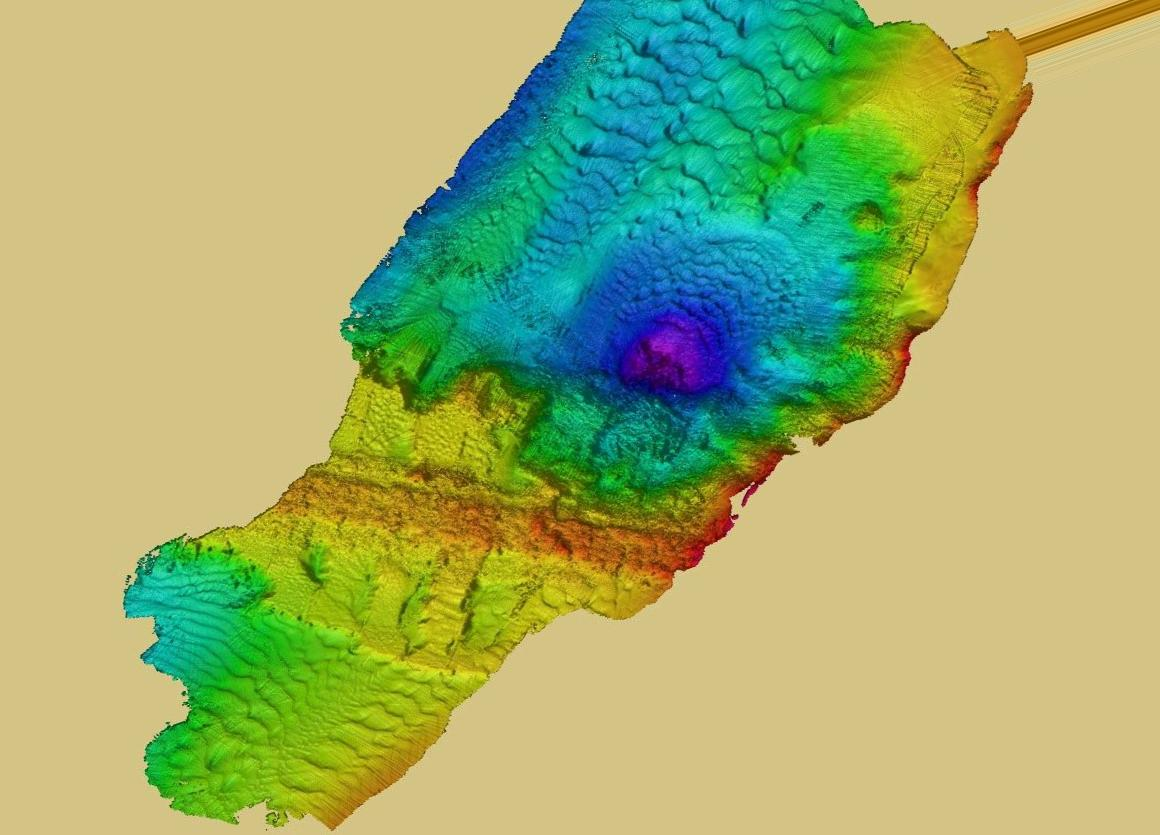Dune: (84, 631, 342, 792), (608, 22, 800, 225), (517, 144, 625, 290), (667, 249, 798, 337)
Scarp: (698, 416, 937, 623), (804, 305, 989, 476)
Scour pit: (580, 296, 765, 424)
Submerged dike: (254, 443, 737, 619)
